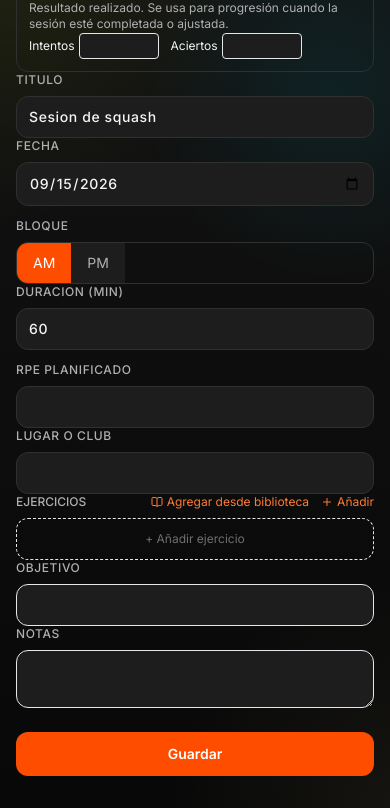
it: SessionForm › muestra errores, no cancela y rehabilita los controles
The image size is (390, 808).
(page scrolled)
Click the button "Guardar" at [195, 754], box [16,732,374,776]
(page scrolled)
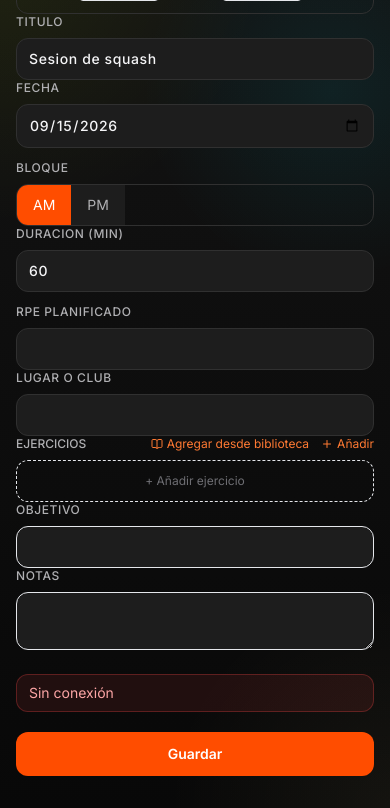
Result: the message reads "Sin conexión" at [29,684,114,701]
